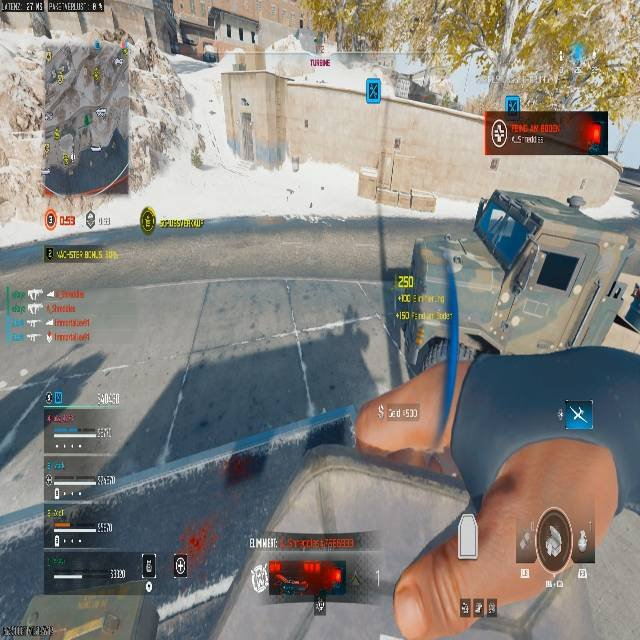player: (391, 433, 627, 640)
